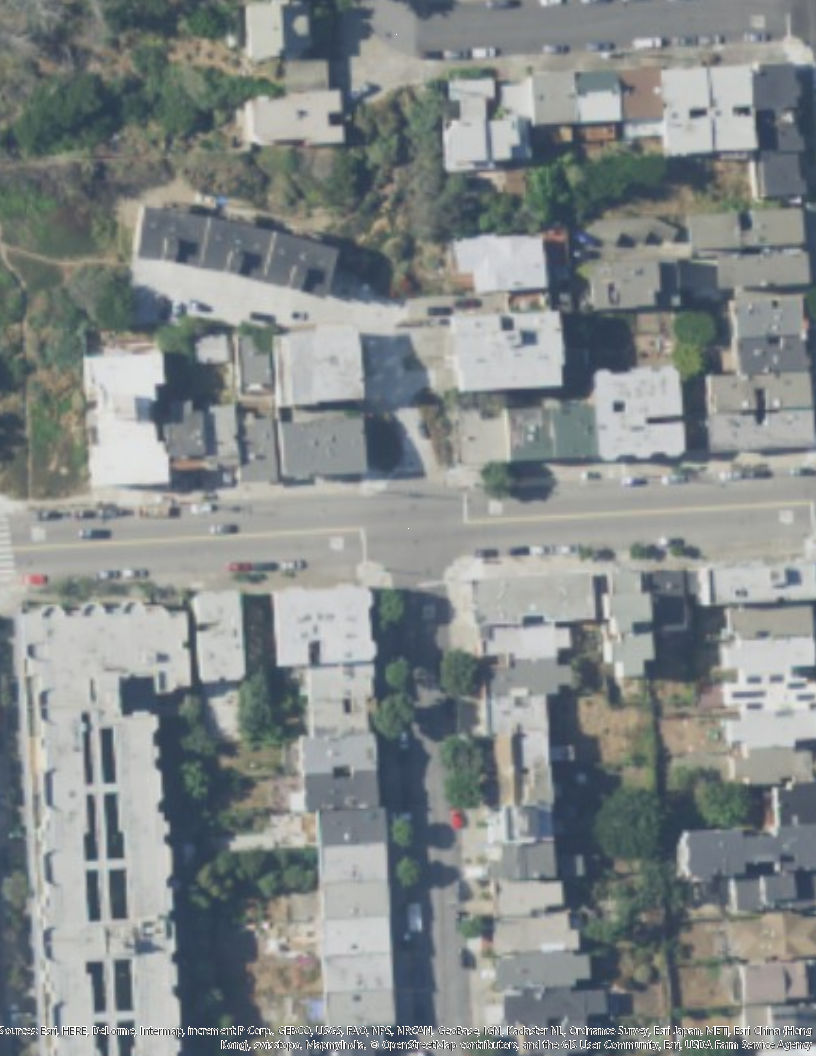zebracross: (1, 509, 17, 582)
